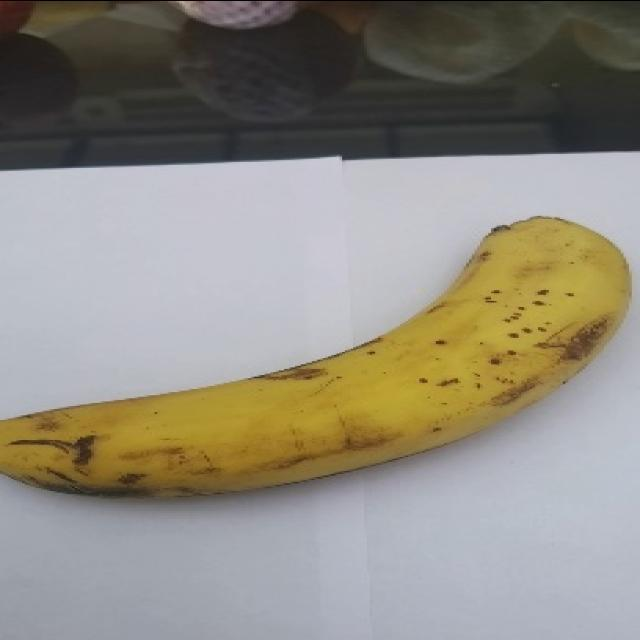Banana: (0, 214, 632, 498)
